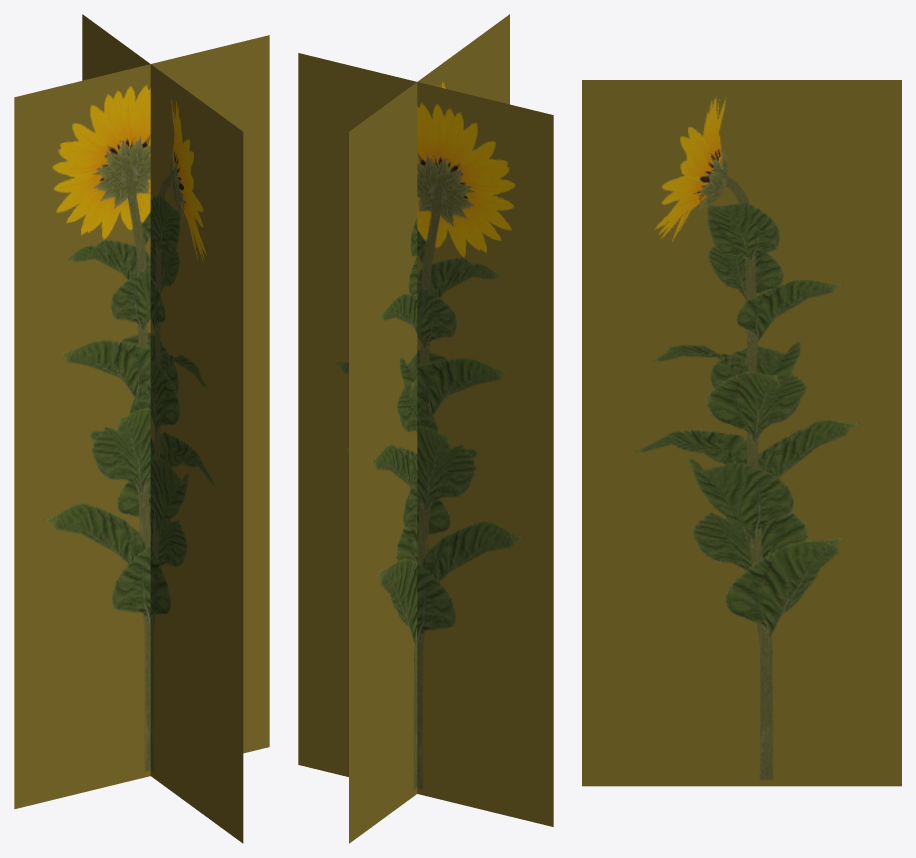
File: HelianthusAnnuus.glb
The picture shows the model from 3 angles, left to right: view 1: azimuth 30°, elevation 25°; view 2: azimuth 150°, elevation 25°; view 3: azimuth 270°, elevation 25°; orthographic projection.
Parts seen in each view (by area): view 1: mesh__mat_billboard_9; view 2: mesh__mat_billboard_9; view 3: mesh__mat_billboard_9.
Boxes of the visible parts, bbox=[...] form: mesh__mat_billboard_9: bbox=[14, 14, 269, 843]; mesh__mat_billboard_9: bbox=[298, 14, 553, 843]; mesh__mat_billboard_9: bbox=[582, 80, 901, 786].
Bounding box in the file's own units: 0.9011 × 2.4 × 0.9863.
Materials: 1 (1 with a texture image).
